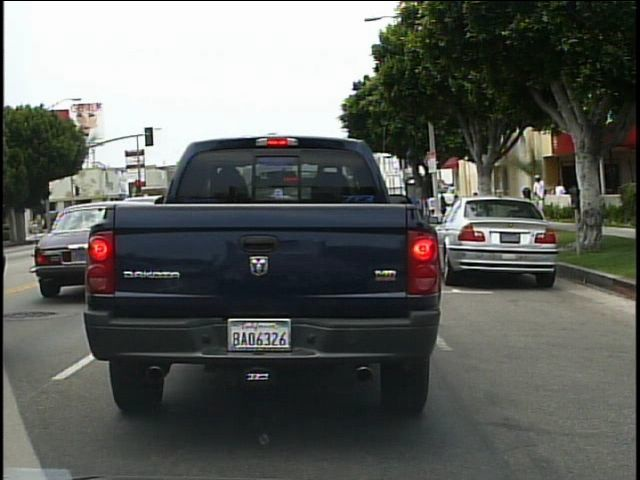person: (528, 172, 552, 223), (551, 177, 570, 220)
